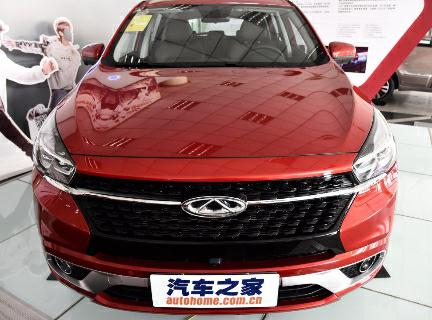奇瑞-瑞虎7: (25, 2, 410, 306)
